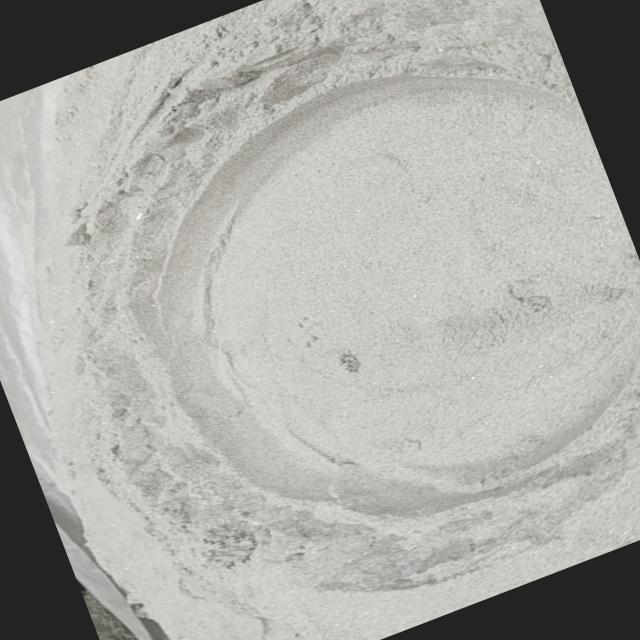C40: (148, 62, 640, 537)
